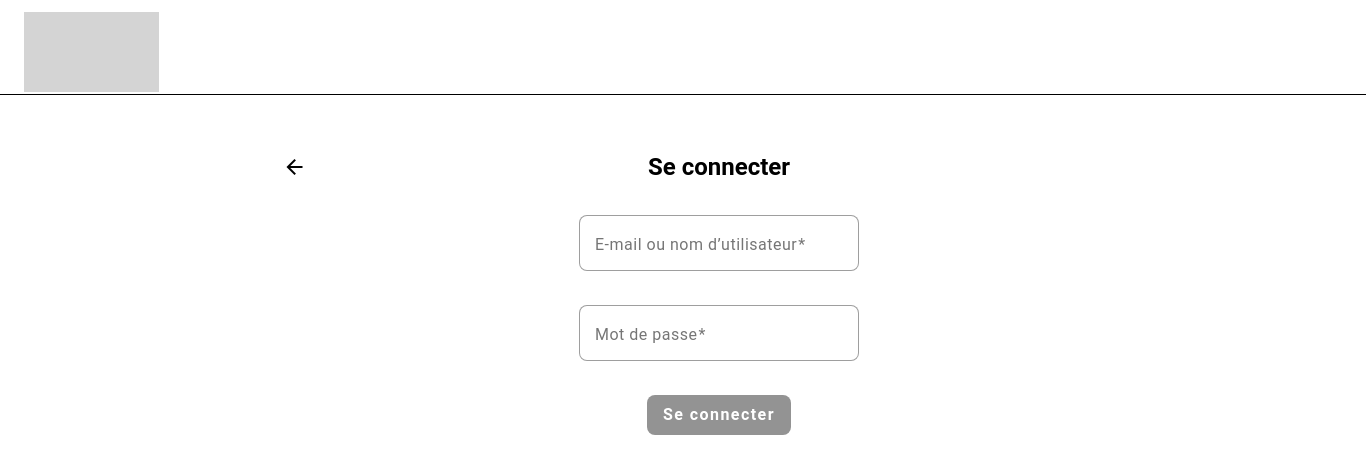
Test: Login page › should toggles password visibility
The image size is (1366, 452).
Type "Password123!" into the password field with test id "password-input" at [719, 333], box [595,321,843,345]
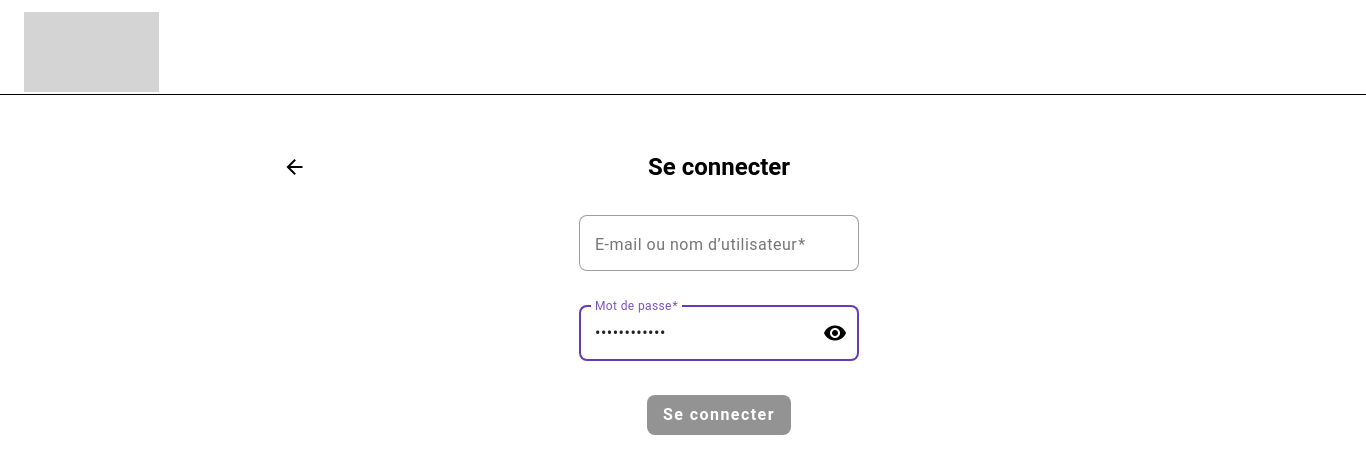
Click the button with test id "password-button" at [835, 333], box [811,309,859,357]
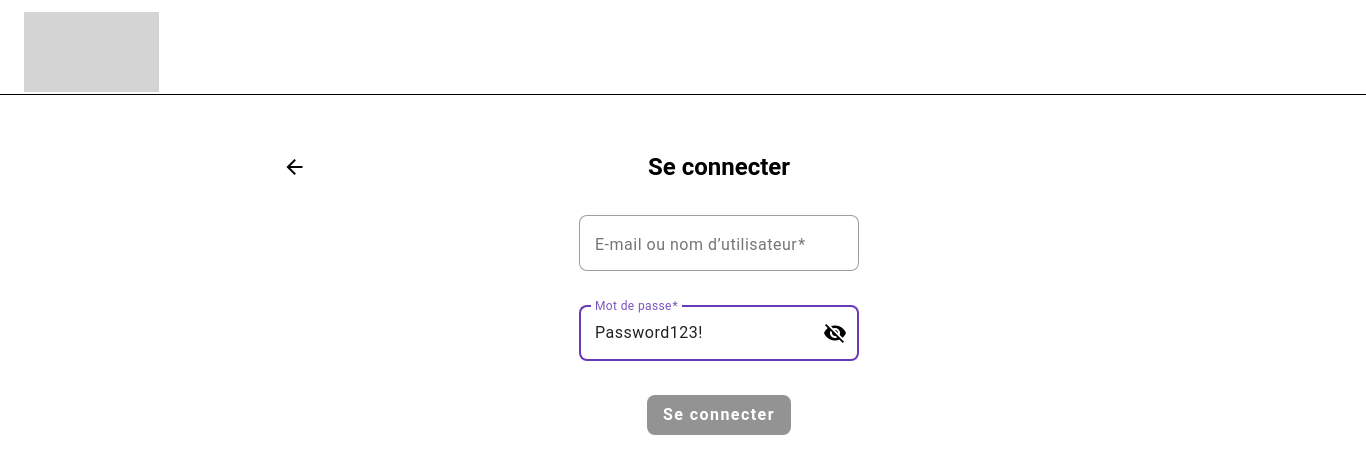
Result: the field with test id "password-input" shows its text at [595,321,807,345]
